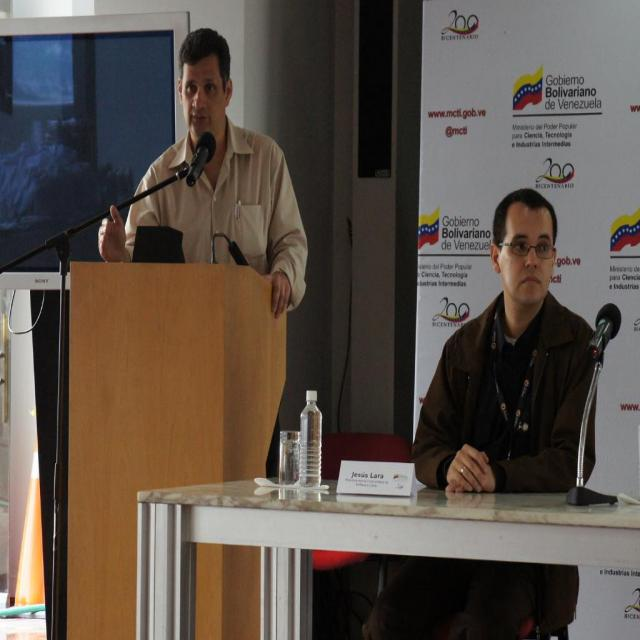desk: (139, 478, 638, 637)
person: (96, 23, 310, 635), (394, 188, 597, 636)
